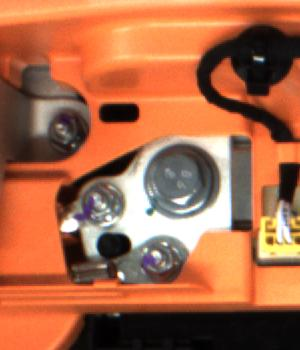nut_b: (140, 146, 215, 220)
screw_s: (72, 185, 129, 227), (38, 110, 81, 150), (134, 244, 184, 278)
